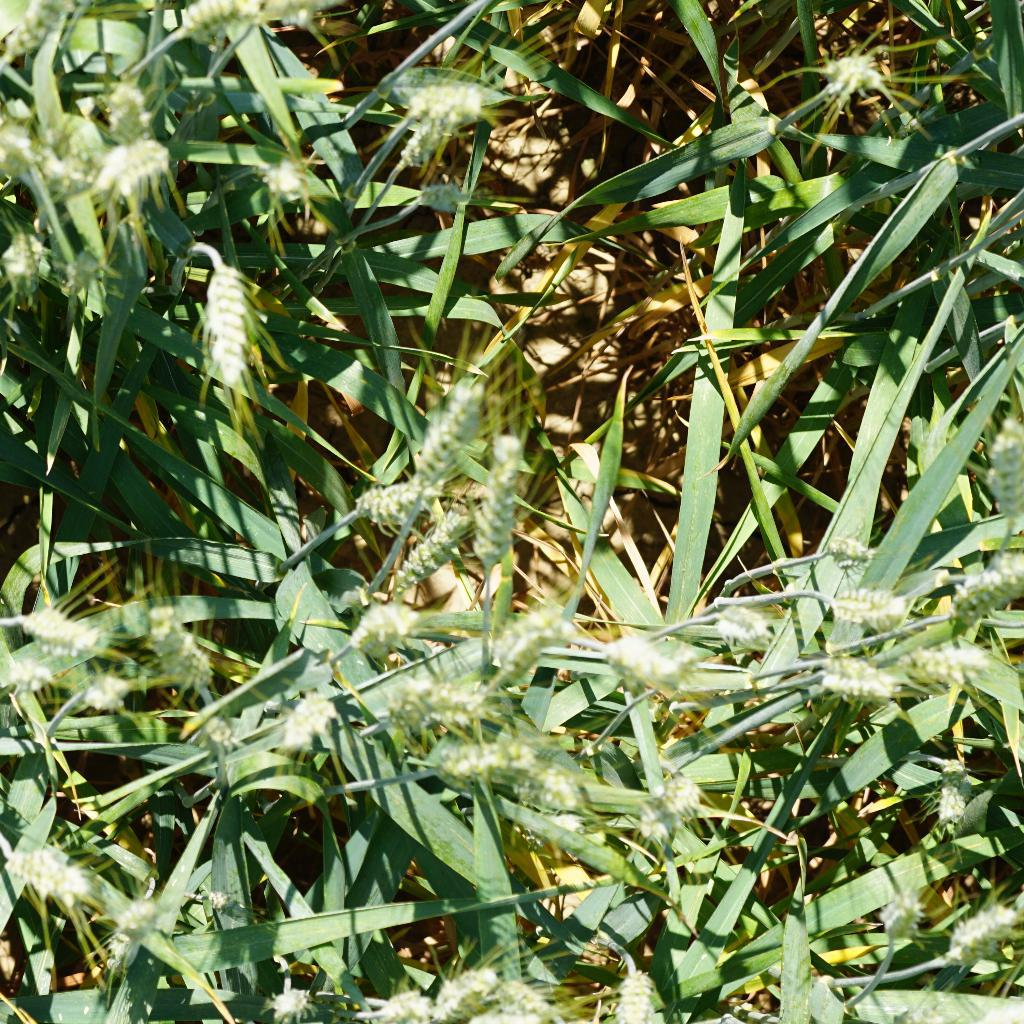0-0: (403, 358, 493, 486), (359, 508, 467, 600), (462, 429, 524, 582), (395, 716, 529, 785), (478, 595, 572, 687), (144, 598, 225, 702), (467, 744, 582, 817), (201, 253, 262, 388), (938, 890, 1024, 981), (937, 559, 1024, 641), (2, 589, 111, 654), (805, 38, 898, 114), (0, 837, 94, 911), (373, 665, 475, 731), (811, 575, 914, 635), (591, 627, 692, 687), (342, 463, 443, 522), (89, 135, 167, 209), (638, 748, 712, 826), (93, 890, 159, 974), (919, 747, 978, 840), (476, 965, 569, 1024), (391, 75, 492, 129), (897, 632, 994, 688), (268, 677, 340, 752), (0, 0, 85, 62), (866, 869, 929, 948), (819, 653, 907, 706), (985, 419, 1024, 538), (815, 515, 884, 580), (436, 948, 499, 1019), (347, 598, 417, 661), (393, 109, 460, 174), (605, 964, 671, 1024), (93, 83, 157, 144), (78, 662, 134, 729), (174, 0, 267, 37), (372, 972, 438, 1024), (249, 141, 302, 202), (0, 228, 51, 291), (709, 602, 772, 653), (738, 922, 814, 963), (49, 114, 101, 171), (4, 654, 60, 702), (57, 250, 104, 294), (264, 986, 318, 1024), (205, 886, 251, 926)
